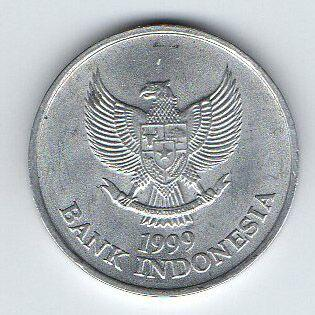coin_100_e1999: (25, 14, 304, 299)
